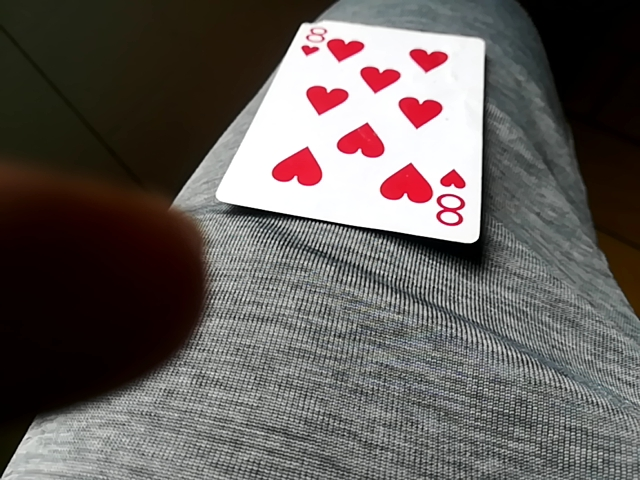hx 8: (215, 21, 492, 244)
